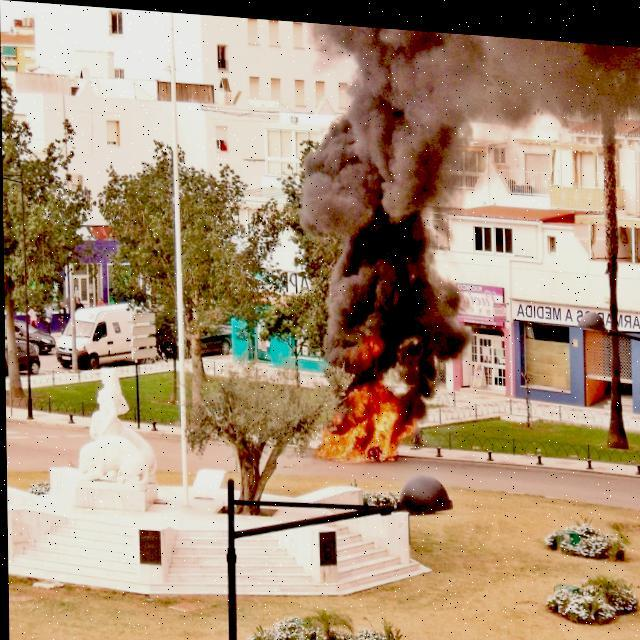Fire: (311, 372, 432, 460), (336, 318, 389, 363)
